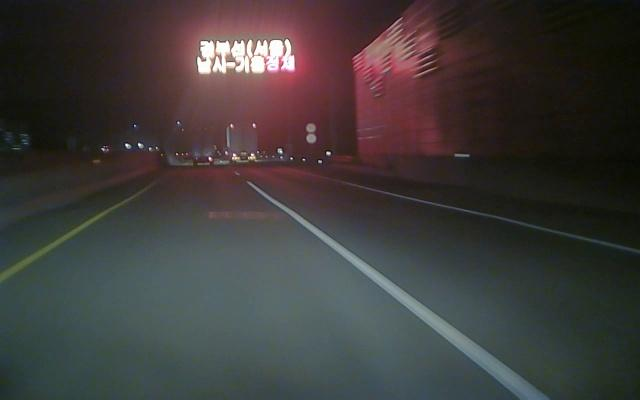lane: (249, 182, 551, 399), (345, 183, 640, 255), (1, 208, 111, 282)
